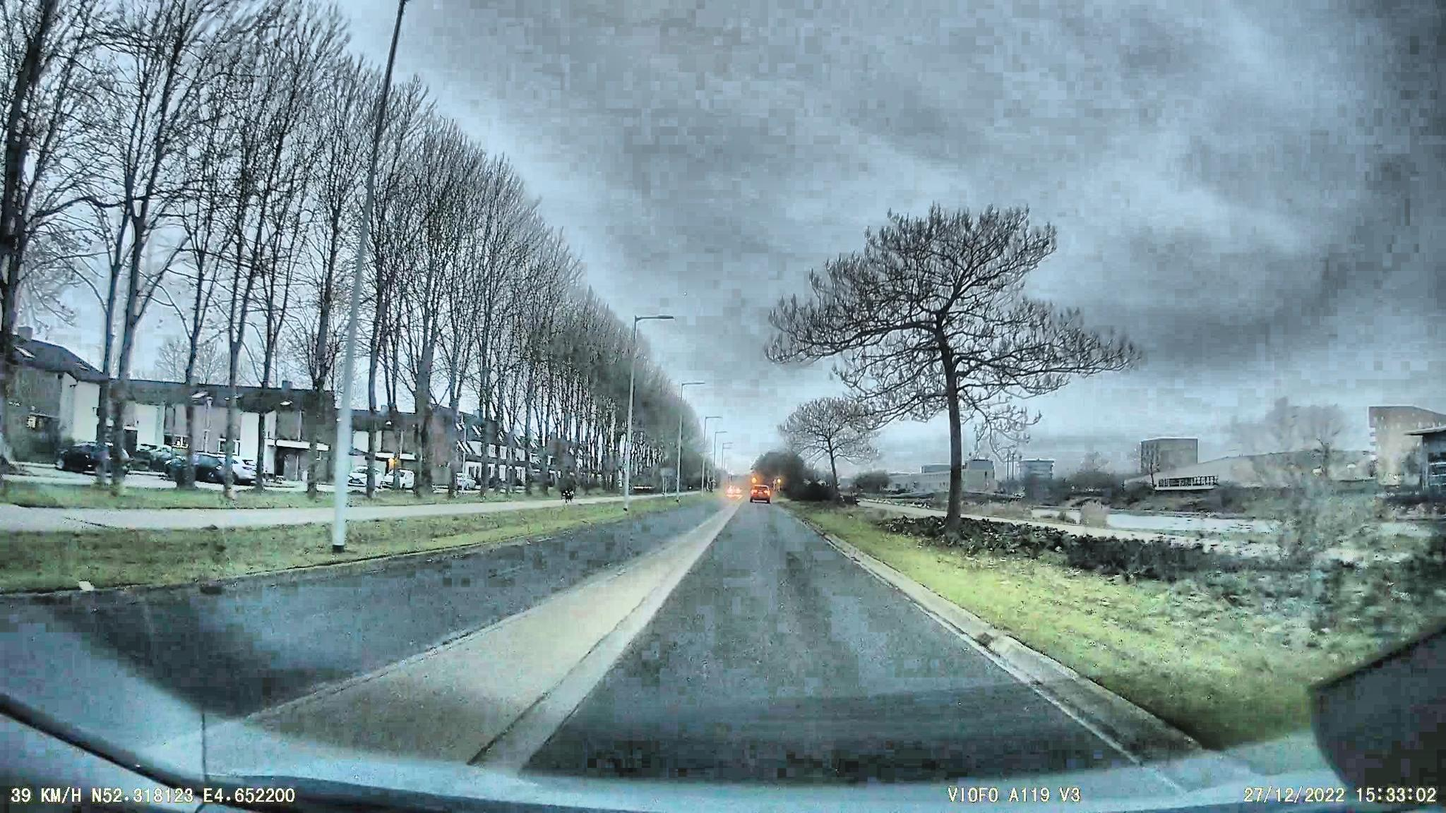Roads: (0, 499, 1446, 813)
